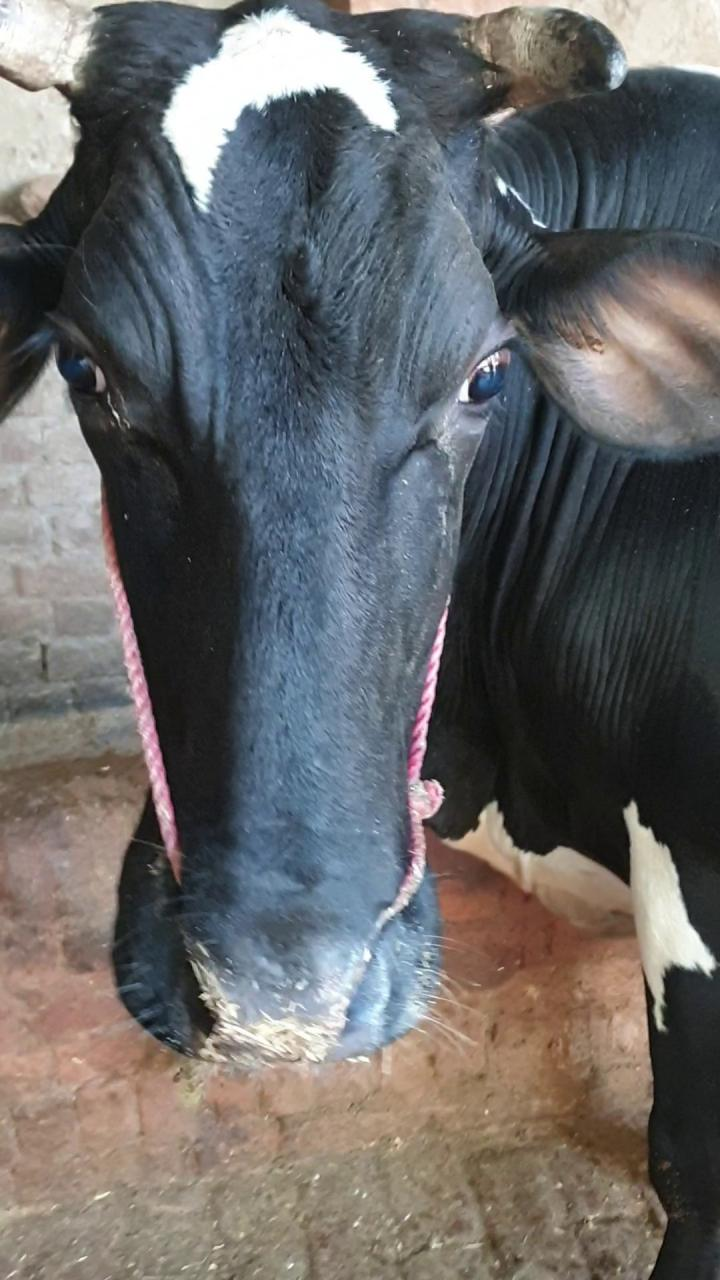cows: (40, 0, 533, 1060)
